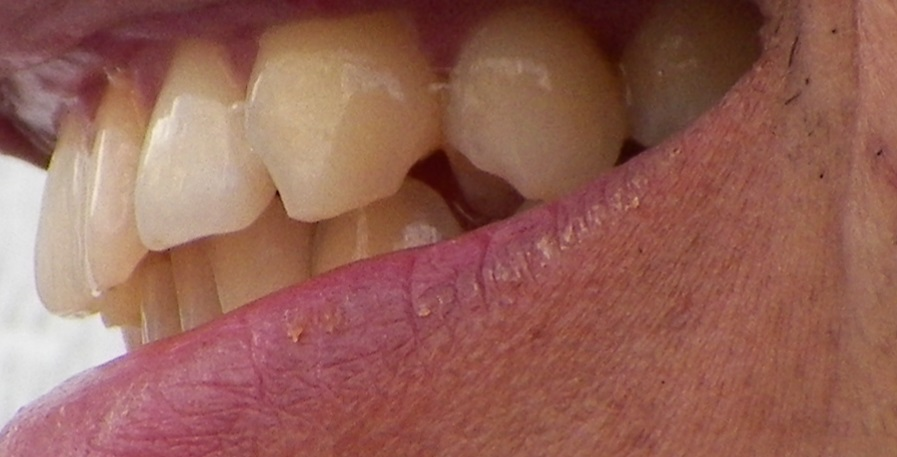boca: (42, 11, 751, 346)
